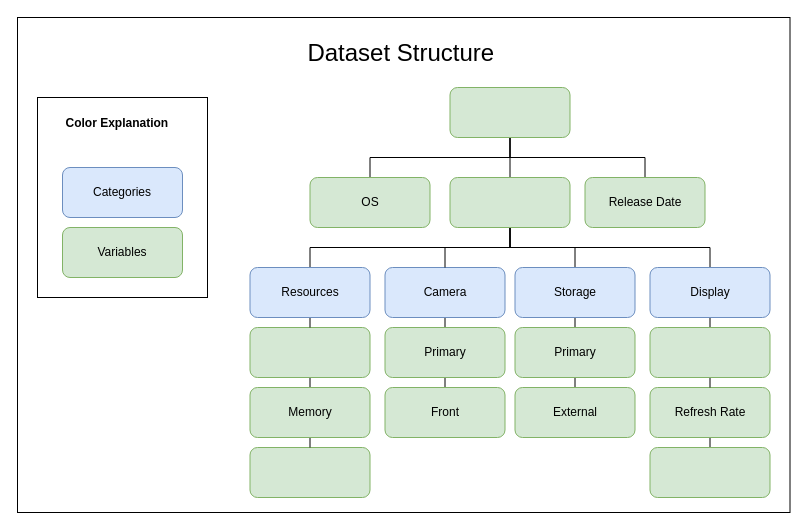
This 808x530 diagram has some shape labels left out. Here are the shapes that lost their labels. From the top down, the centre of each, then its label:
the point at 509,112: Brand
the point at 509,202: Model
the point at 309,352: Processor
the point at 709,352: Size
the point at 309,472: Battery Capacity
the point at 709,472: Resolution
